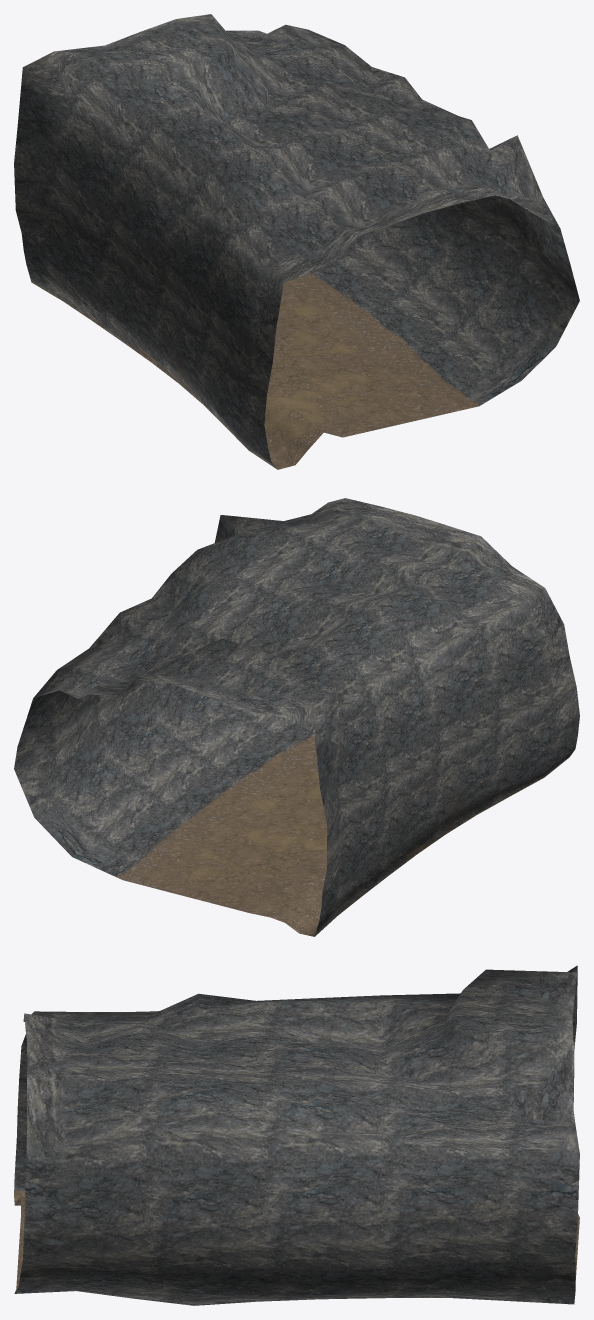
File: piece.obj
3 renders of one model, top to bottom at view 1: azimuth 30°, elevation 25°; view 2: azimuth 150°, elevation 25°; view 3: azimuth 270°, elevation 25°, orthographic. The views are drawn at different scales.
Parts seen in each view (by area): view 1: TunnelA9; view 2: TunnelA9; view 3: TunnelA9.
Part boxes in pixels (x1,y1,x2,y2): TunnelA9: (14,14,579,469); TunnelA9: (14,498,579,936); TunnelA9: (14,965,579,1305).
Bounding box in the file's own units: 4.27 × 2.87 × 5.82.
Materials: 1 (1 with a texture image).
